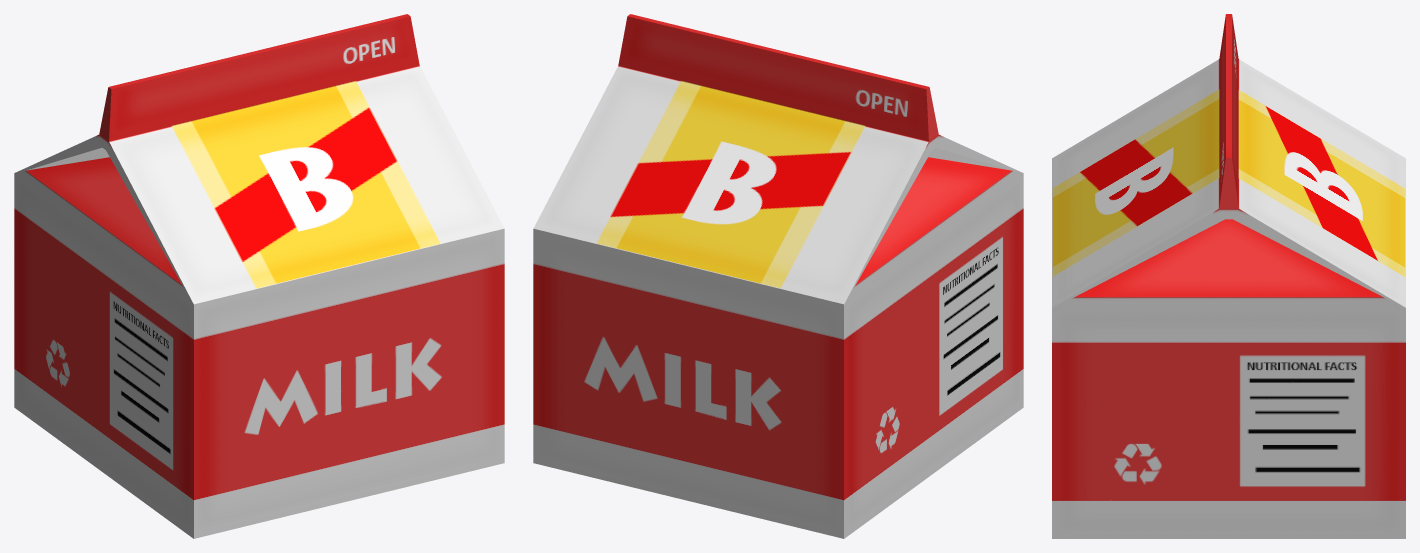
Rendered from fff_drink_milk.FBX.
3 renders of one model, left to right at view 1: azimuth 30°, elevation 25°; view 2: azimuth 150°, elevation 25°; view 3: azimuth 270°, elevation 25°, orthographic.
Parts seen in each view (by area): view 1: fff_drink_milk; view 2: fff_drink_milk; view 3: fff_drink_milk.
Boxes of the visible parts, x1,y1,x2,y2 form: fff_drink_milk: [14, 14, 504, 538]; fff_drink_milk: [533, 14, 1023, 538]; fff_drink_milk: [1052, 14, 1405, 538].
Bounding box in the file's own units: 3.64 × 4.29 × 3.64.
